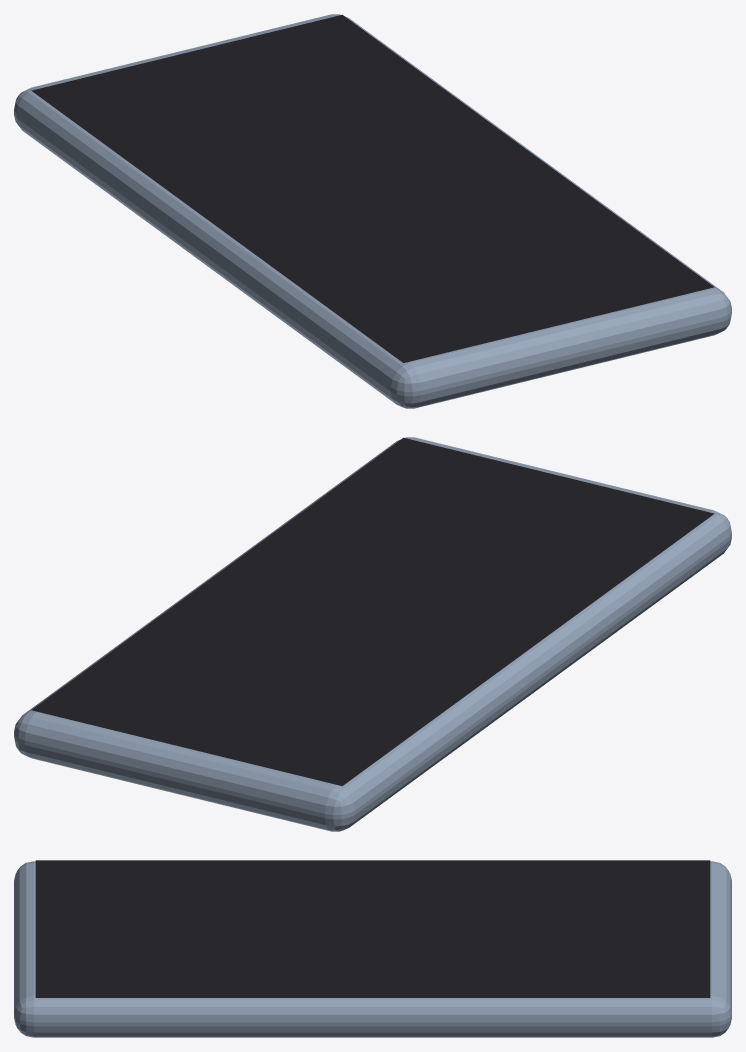
File: xiaomi-redmi-note-model-89-mid-range-2026.glb
The picture shows the model from 3 angles, top to bottom: view 1: azimuth 30°, elevation 25°; view 2: azimuth 150°, elevation 25°; view 3: azimuth 270°, elevation 25°; orthographic projection. The views are drawn at different scales.
Parts seen in each view (by area): view 1: Phone_Screen, Phone_Body; view 2: Phone_Screen, Phone_Body; view 3: Phone_Screen, Phone_Body.
Part boxes in pixels (x1,y1,x2,y2): Phone_Screen: (31,14,714,362); Phone_Body: (14,14,731,408); Phone_Screen: (31,437,714,785); Phone_Body: (14,437,731,831); Phone_Screen: (35,860,710,997); Phone_Body: (14,861,731,1037).
Bounding box in the file's own units: 0.0786 × 0.0099 × 0.1594.
